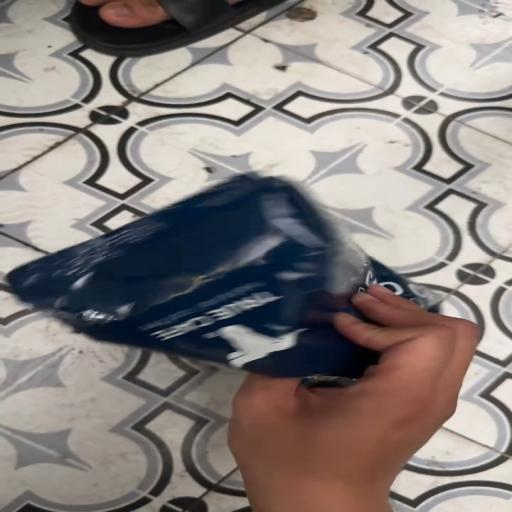cafe_hat: (5, 172, 438, 379)
